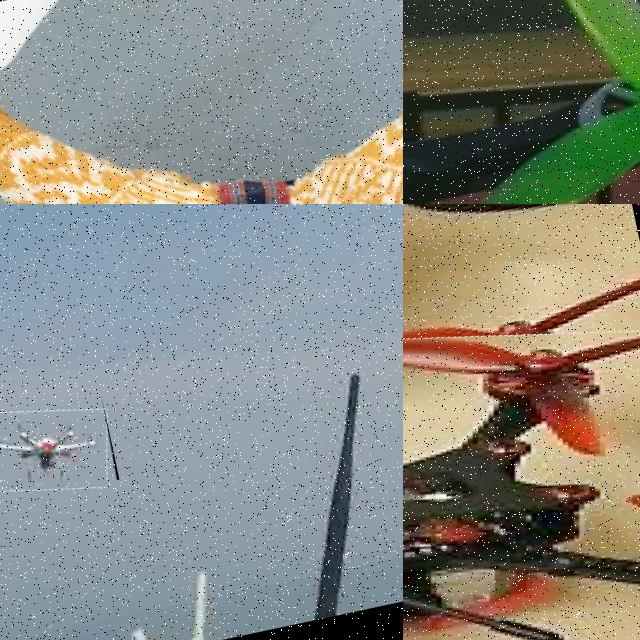drone: (403, 251, 640, 640), (0, 0, 403, 204), (403, 0, 640, 204), (0, 392, 119, 507)
